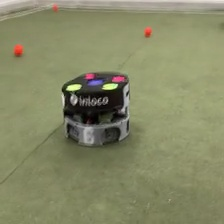ball: (13, 42, 23, 56), (142, 25, 152, 36), (50, 3, 58, 11)
robot: (59, 70, 132, 148)
